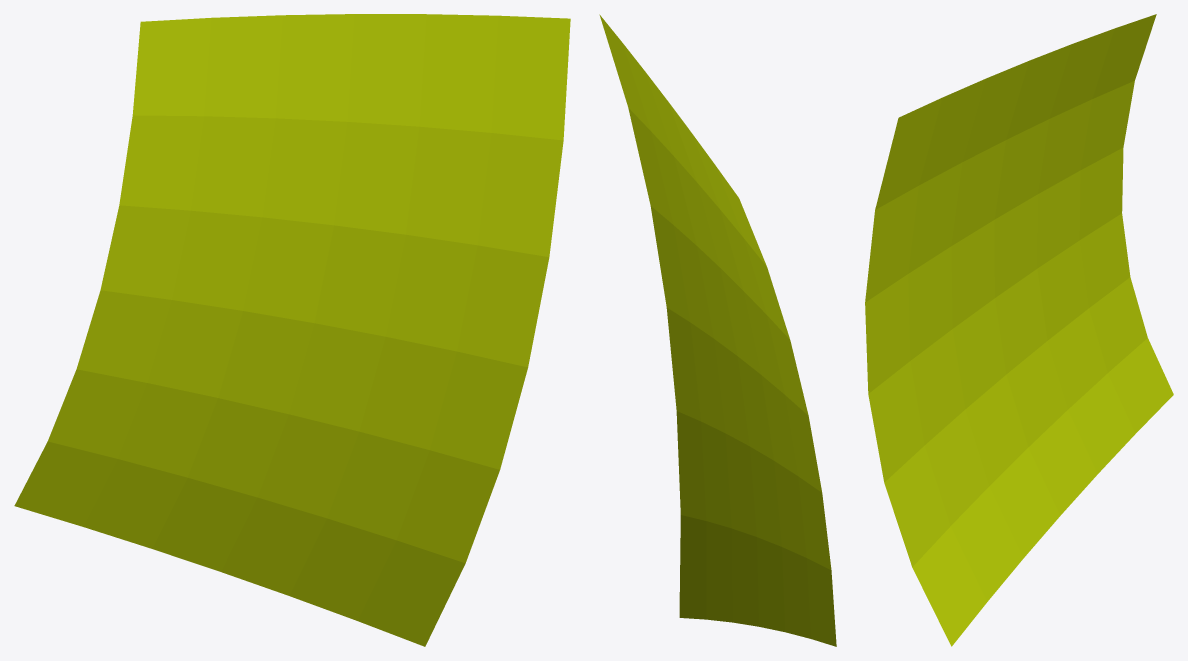
File: note.fbx
The picture shows the model from 3 angles, left to right: view 1: azimuth 30°, elevation 25°; view 2: azimuth 150°, elevation 25°; view 3: azimuth 270°, elevation 25°; orthographic projection. The views are drawn at different scales.
Visible parts, largest first — view 1: Plane; view 2: Plane; view 3: Plane.
Part boxes in pixels (left/top/right/bottom): Plane: left=14, top=14, right=570, bottom=646; Plane: left=599, top=14, right=836, bottom=646; Plane: left=865, top=14, right=1173, bottom=646.
Bounding box in the file's own units: 318 × 460 × 221.
